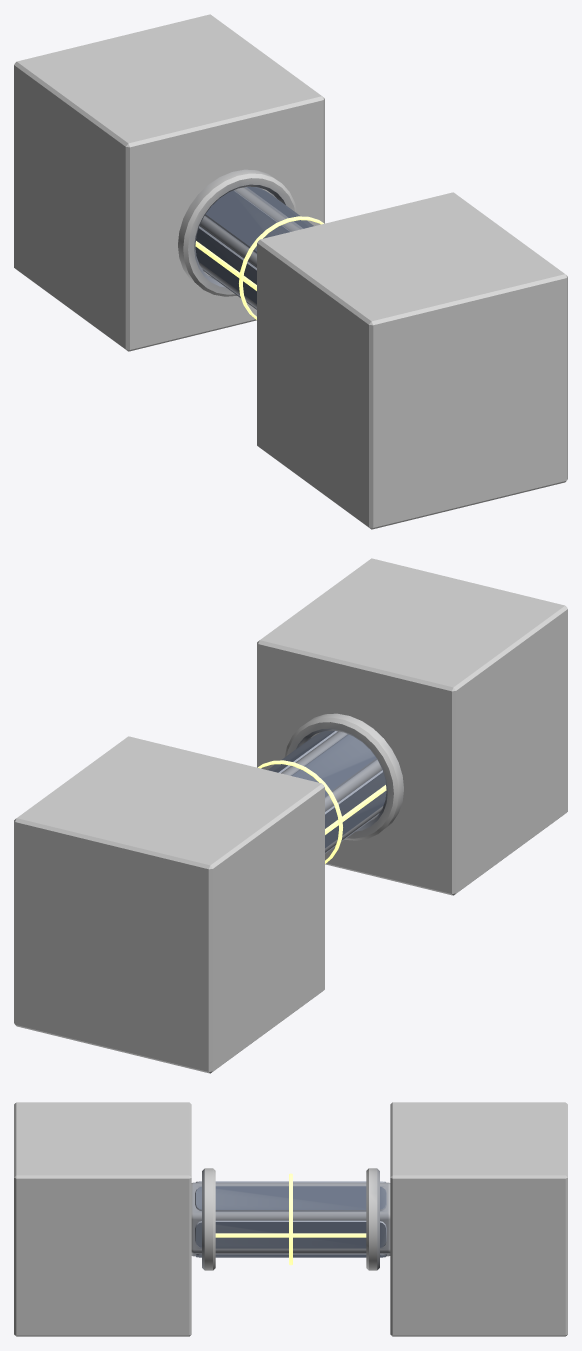
File: R4C_STRUT_STANDARD.fbx
The picture shows the model from 3 angles, top to bottom: view 1: azimuth 30°, elevation 25°; view 2: azimuth 150°, elevation 25°; view 3: azimuth 270°, elevation 25°; orthographic projection. The views are drawn at different scales.
Visible parts, largest first — view 1: R4C_STRUT_STANDARD; view 2: R4C_STRUT_STANDARD; view 3: R4C_STRUT_STANDARD.
Part boxes in pixels (left/top/right/bottom): R4C_STRUT_STANDARD: left=14, top=14, right=567, bottom=529; R4C_STRUT_STANDARD: left=14, top=558, right=567, bottom=1073; R4C_STRUT_STANDARD: left=14, top=1102, right=567, bottom=1336.
Size of the model in its own units: 0.52 by 0.52 by 1.62.
